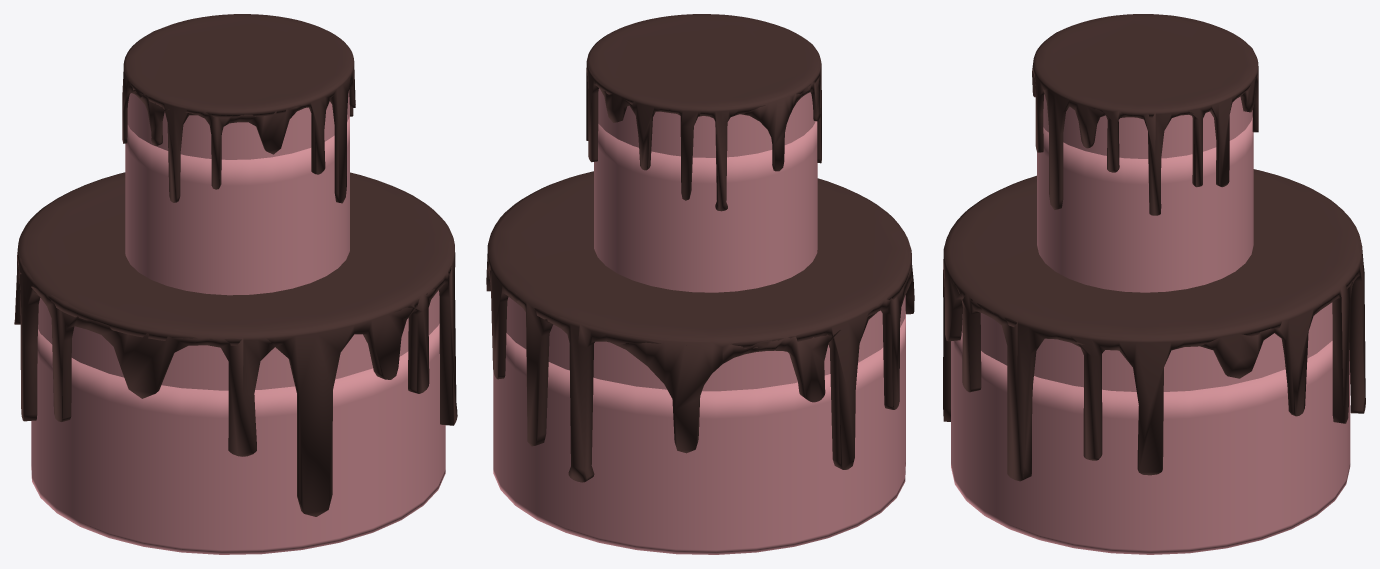
The model's file is 2-tier-blush-ganache-none.glb.
The picture shows the model from 3 angles, left to right: view 1: azimuth 30°, elevation 25°; view 2: azimuth 150°, elevation 25°; view 3: azimuth 270°, elevation 25°; orthographic projection.
Visible parts, largest first — view 1: Cylinder.023, tHE ICING.004, Cylinder.013, tHE ICING.003; view 2: Cylinder.023, tHE ICING.004, Cylinder.013, tHE ICING.003; view 3: Cylinder.023, tHE ICING.004, Cylinder.013, tHE ICING.003.
Part boxes in pixels (left/top/right/bottom): Cylinder.023: left=31, top=290, right=445, bottom=554; tHE ICING.004: left=14, top=172, right=457, bottom=516; Cylinder.013: left=125, top=90, right=349, bottom=295; tHE ICING.003: left=122, top=14, right=355, bottom=203; Cylinder.023: left=493, top=295, right=905, bottom=554; tHE ICING.004: left=486, top=171, right=914, bottom=482; Cylinder.013: left=594, top=88, right=817, bottom=292; tHE ICING.003: left=586, top=14, right=821, bottom=211; Cylinder.023: left=951, top=302, right=1350, bottom=554; tHE ICING.004: left=943, top=169, right=1365, bottom=481; Cylinder.013: left=1037, top=94, right=1253, bottom=292; tHE ICING.003: left=1032, top=14, right=1258, bottom=215.
Size of the model in its own units: 3.53 by 3.66 by 3.46.
